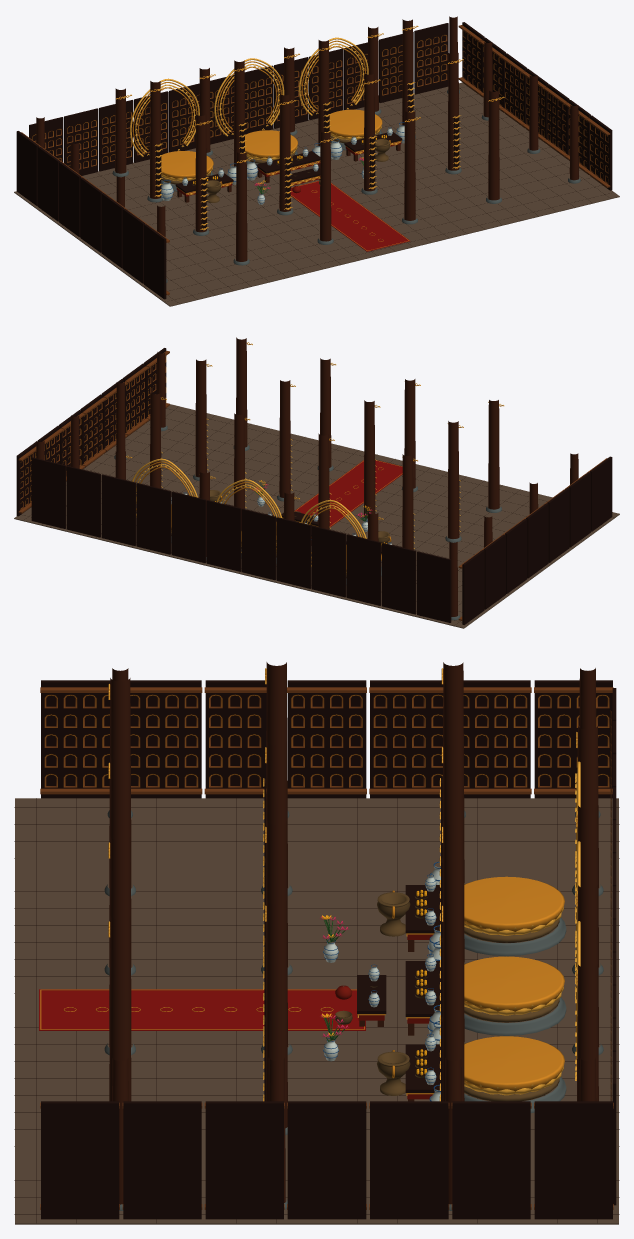
The model's file is tam-the-complete-interior.glb.
The picture shows the model from 3 angles, top to bottom: view 1: azimuth 30°, elevation 25°; view 2: azimuth 150°, elevation 25°; view 3: azimuth 270°, elevation 25°; orthographic projection. The views are drawn at different scales.
Parts seen in each view (by area): view 1: Interior; view 2: Interior; view 3: Interior.
Boxes of the visible parts, x1,y1,x2,y2 form: Interior: (14,16,619,306); Interior: (14,337,619,628); Interior: (14,662,619,1224).
Size of the model in its own units: 50.1 by 12.72 by 30.2.
